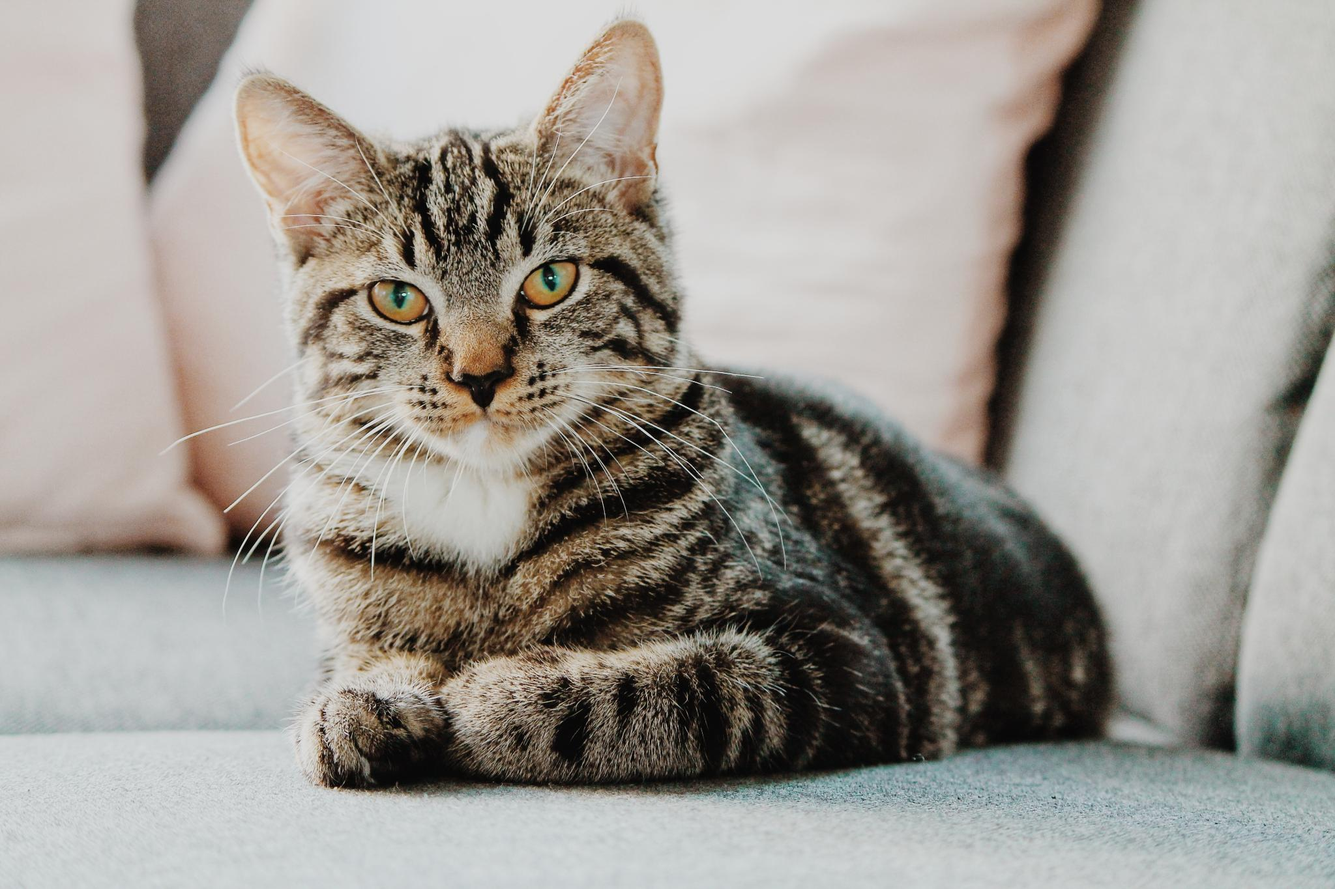cat: (158, 14, 1119, 791)
